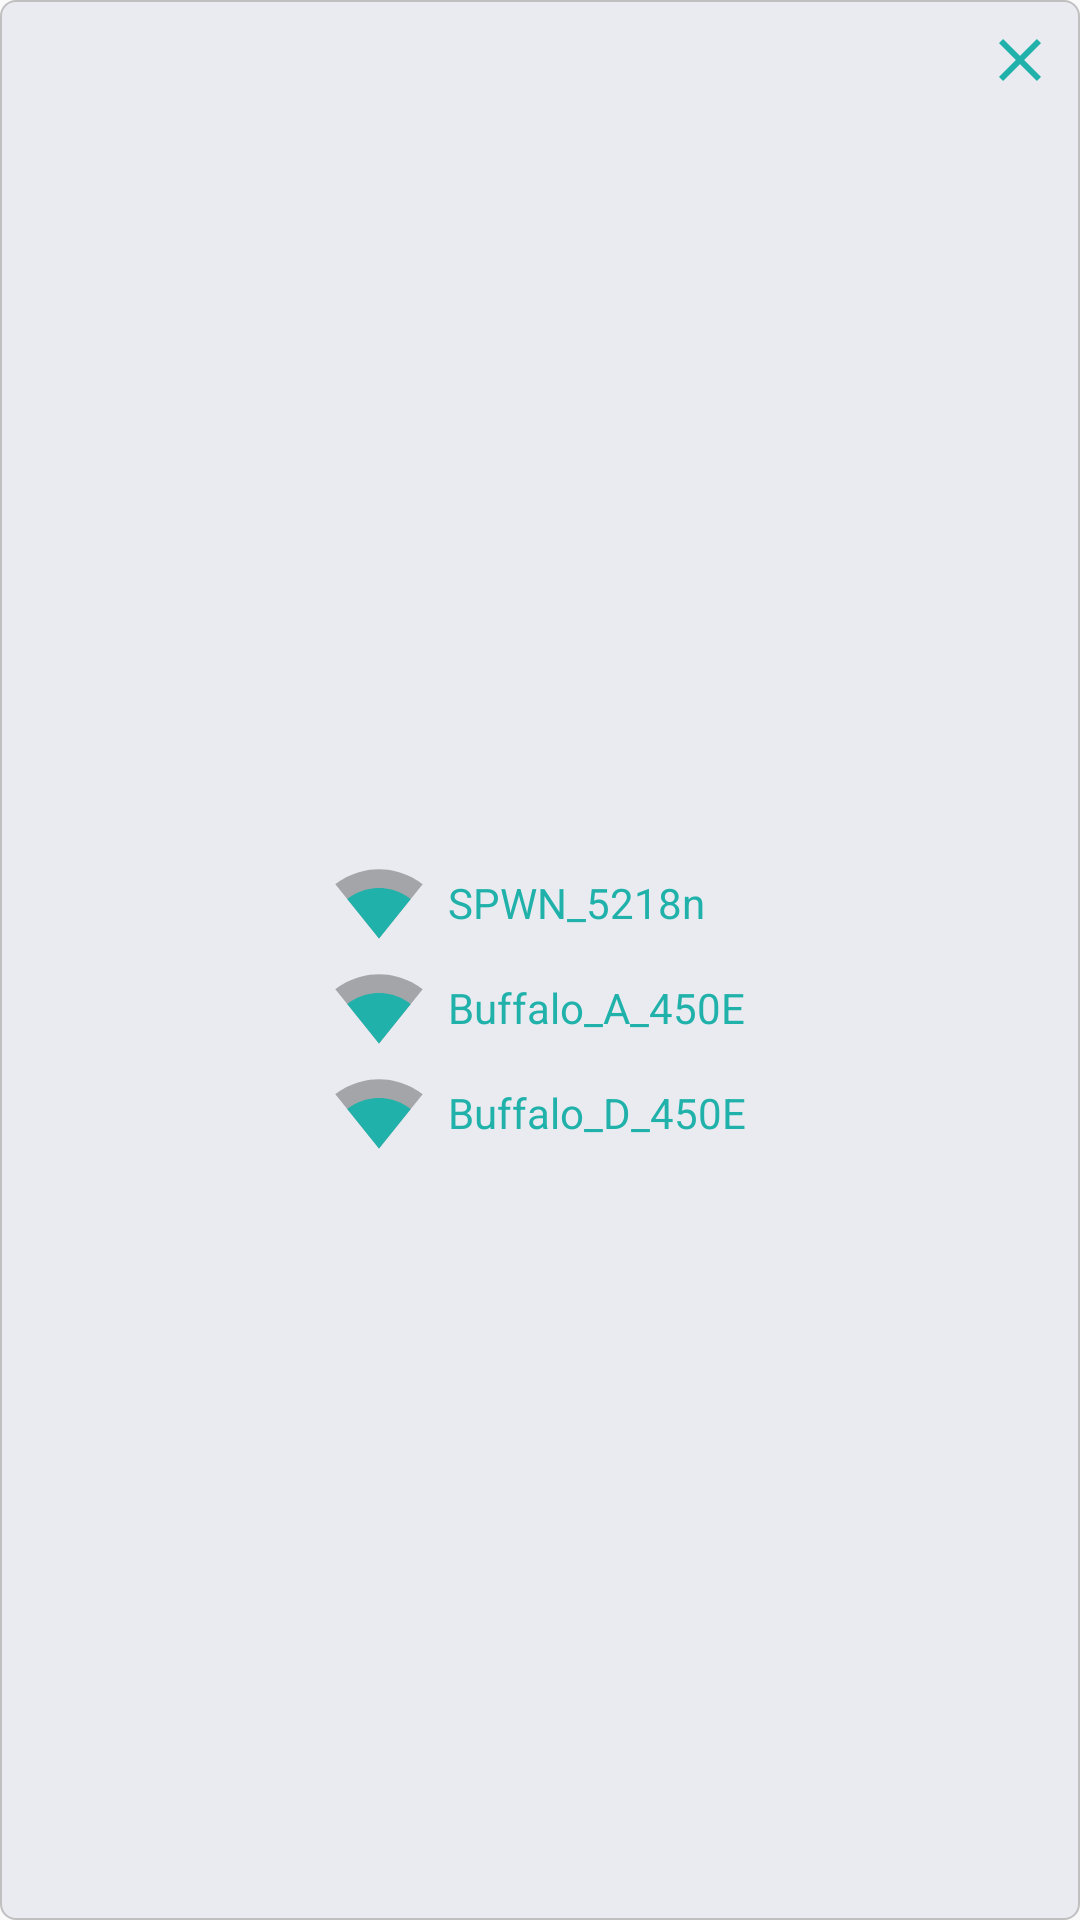

Named icons in this screenshot (1080w x 1920h) and their bounding boxes, (x1, y1, x2, y2):
close: (999, 39, 1041, 81)
network wifi: (335, 869, 423, 939), (335, 974, 423, 1044), (335, 1079, 423, 1149)
